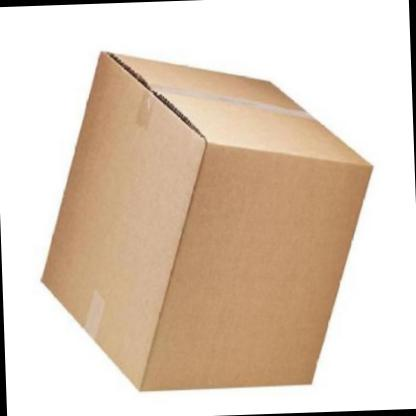box: (32, 43, 378, 398)
